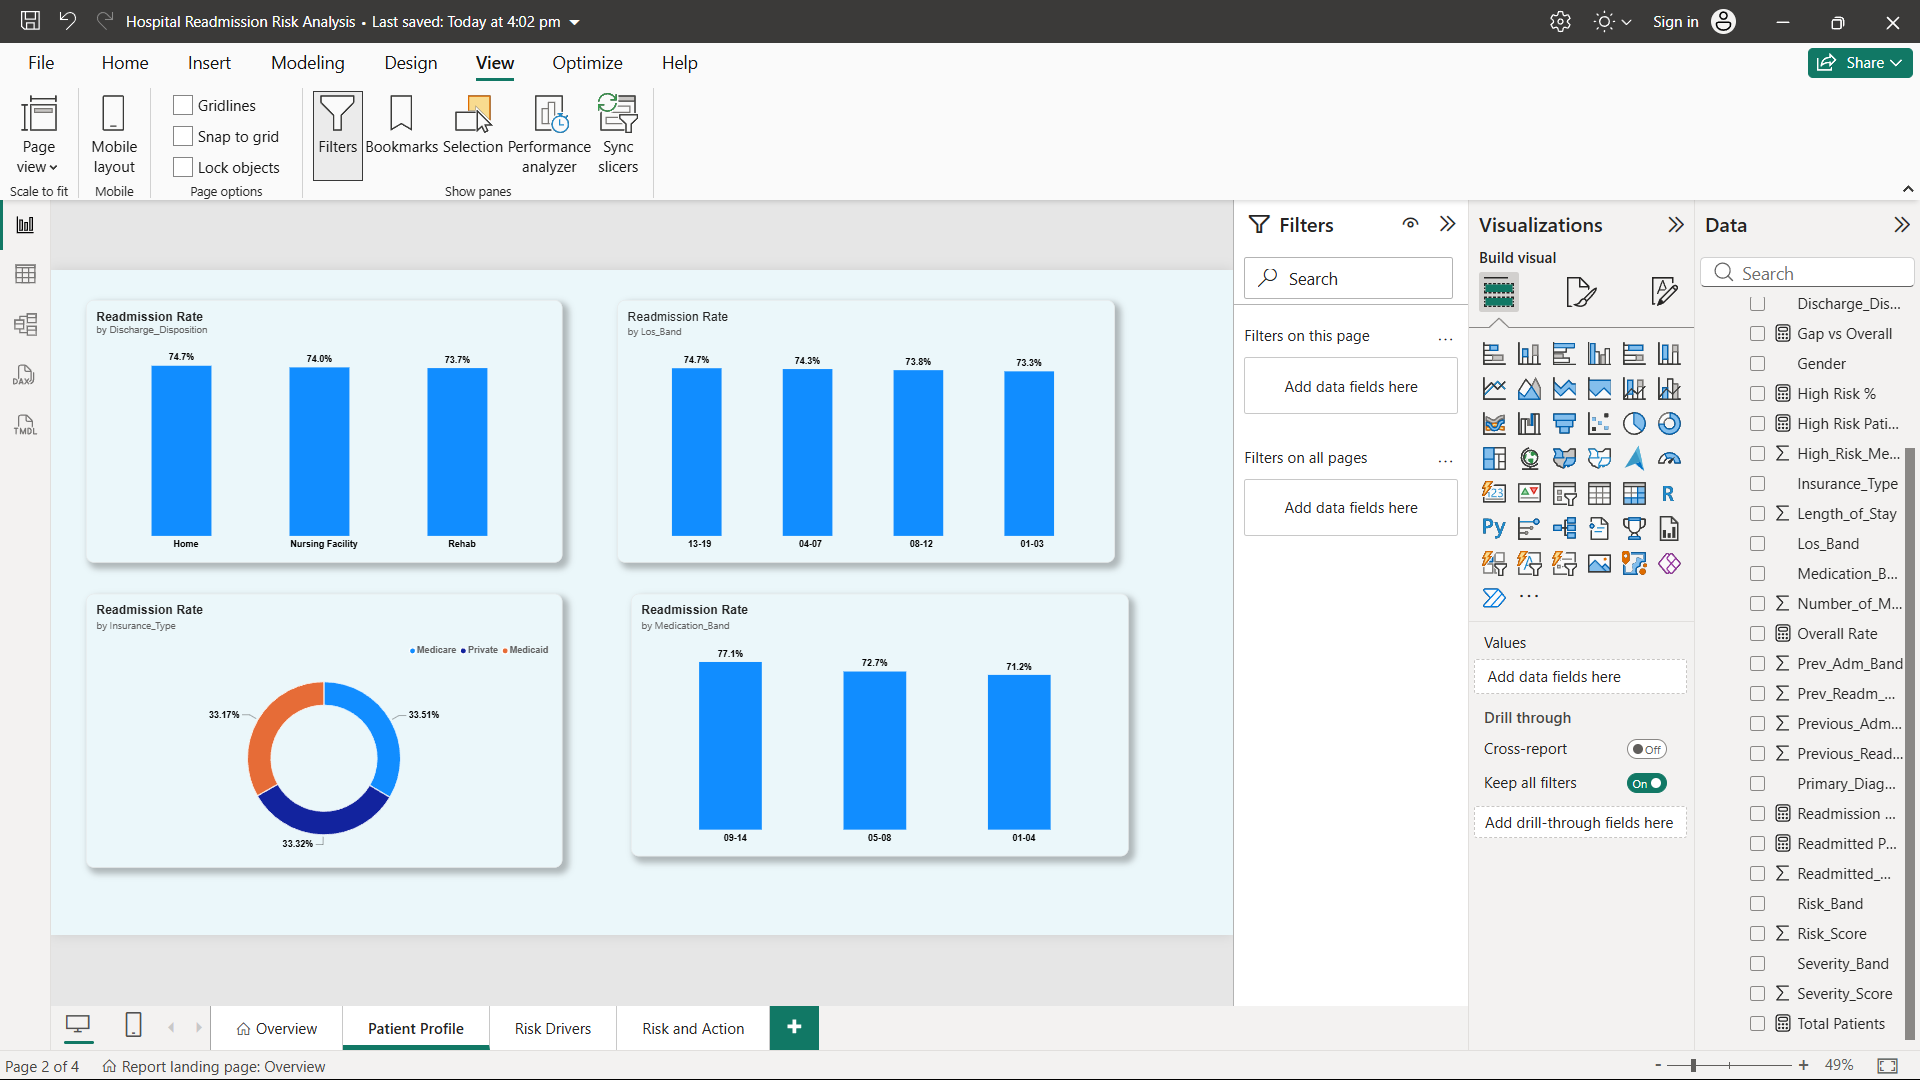

What the dashboard file says about the page in this screenshot:
{"tool":"powerbi","page":{"name":"Patient Profile","canvas":[1920,1080],"ordinal":1},"visuals":[{"type":"clusteredColumnChart","fields":{"Y":["Patients.Readmission Rate"],"Category":["Patients.Discharge_Disposition"]},"box":[56.8,48.7,773.4,426.3],"z":9000},{"type":"clusteredColumnChart","fields":{"Y":["Patients.Readmission Rate"],"Category":["Patients.Los_Band"]},"box":[919.6,48.7,808,426.3],"z":10000},{"type":"donutChart","fields":{"Y":["Patients.Readmission Rate"],"Category":["Patients.Insurance_Type"]},"box":[56.8,525.8,773.4,444.6],"z":11000},{"type":"clusteredColumnChart","fields":{"Y":["Patients.Readmission Rate"],"Category":["Patients.Medication_Band"]},"box":[941.9,525.8,808,426.3],"z":11001}]}

Visuals, with their boxes on the page's 1920x1080 design canvas (x1, y1, x2, y2). These are canvas units, not pixel positions in the 1920x1080 screenshot, which may show the page scaled, cropped or inside an application window:
clusteredColumnChart - Patients.Readmission Rate x Patients.Discharge_Disposition: bbox(57, 49, 830, 475)
clusteredColumnChart - Patients.Readmission Rate x Patients.Los_Band: bbox(920, 49, 1728, 475)
donutChart - Patients.Readmission Rate x Patients.Insurance_Type: bbox(57, 526, 830, 970)
clusteredColumnChart - Patients.Readmission Rate x Patients.Medication_Band: bbox(942, 526, 1750, 952)
